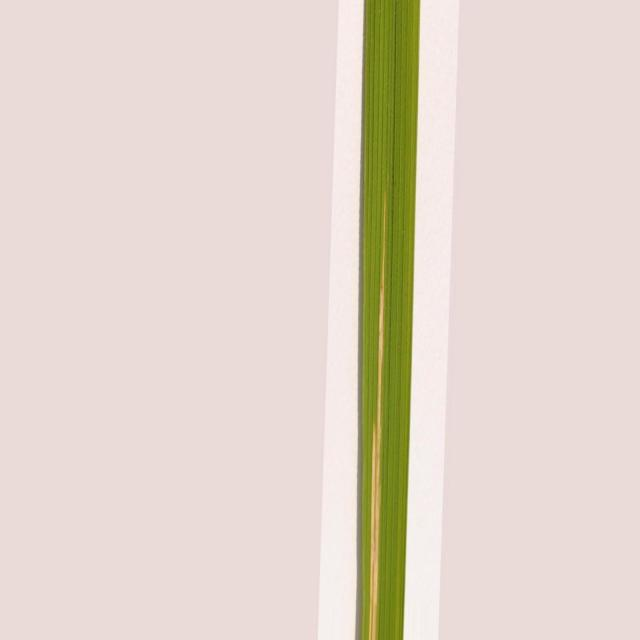Bacterial_Leaf_Blight: (368, 289, 385, 639)
